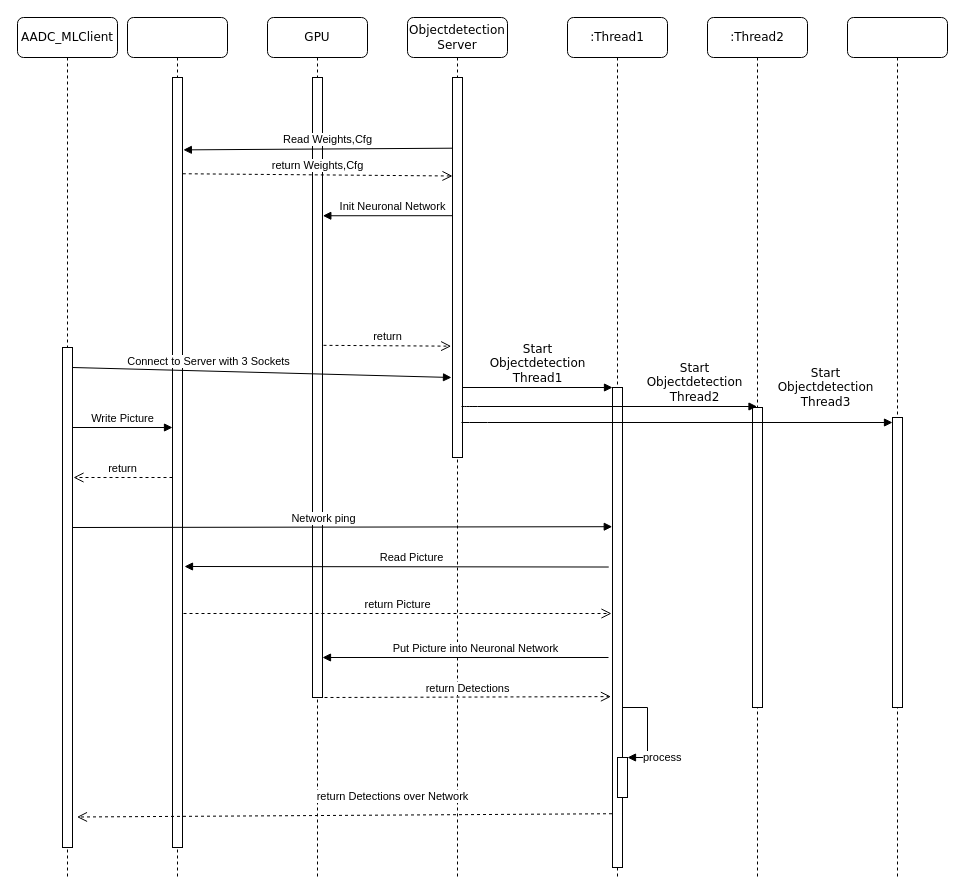
Some shapes in this 965 by 895 pixel diagram are drawn without their labels. Each missing label, with the box of its shape:
:Thread3: (846, 16, 948, 878)
FileSystem: (126, 16, 228, 878)
